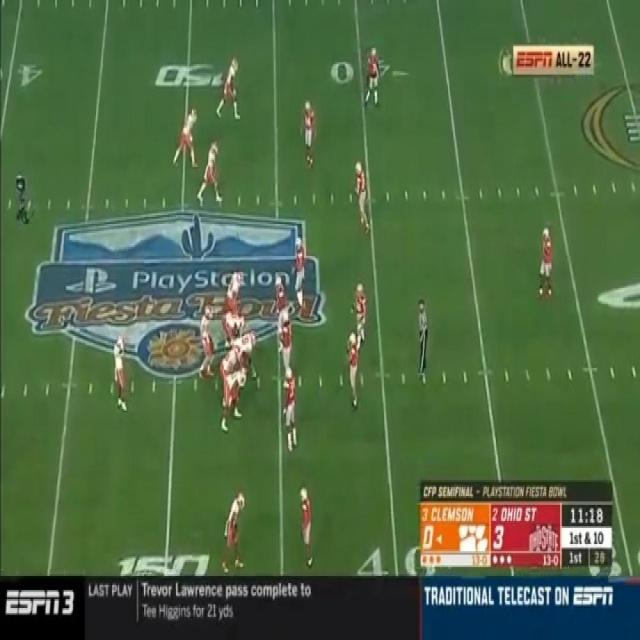center: (233, 330, 257, 382)
db: (298, 486, 314, 564), (303, 101, 318, 171), (537, 226, 551, 300), (356, 162, 369, 224), (367, 44, 380, 102)
lb: (341, 327, 359, 405), (350, 284, 369, 338)
qb: (197, 302, 214, 372)
skill: (226, 496, 246, 570), (222, 56, 241, 124), (113, 334, 129, 406), (178, 110, 196, 163), (204, 143, 218, 198)
